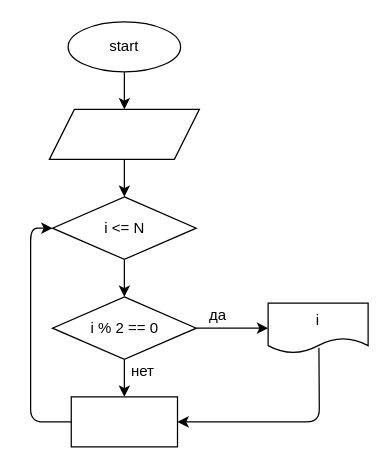
This 390x469 diagram has some shape labels left out. The centre of each missing label's shape, as x and y in pixels:
"i = i + 1" goes at [124,421].
"N = 5, i = 1" goes at [123,133].
